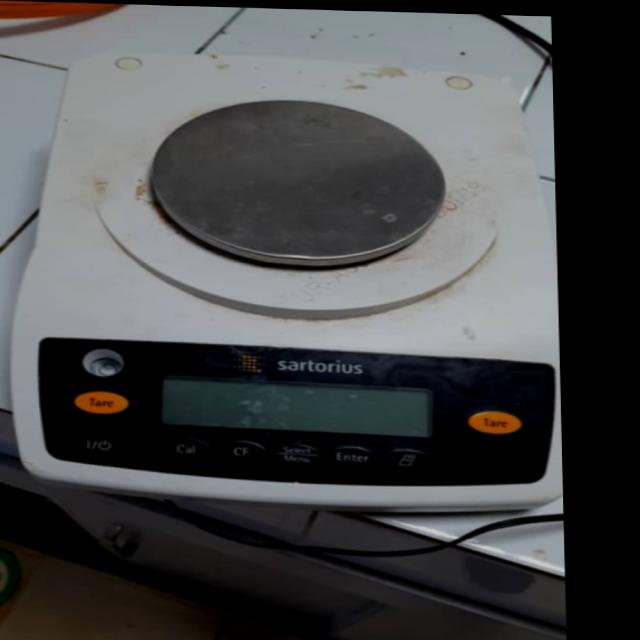Electronic balance: (0, 47, 562, 518)
